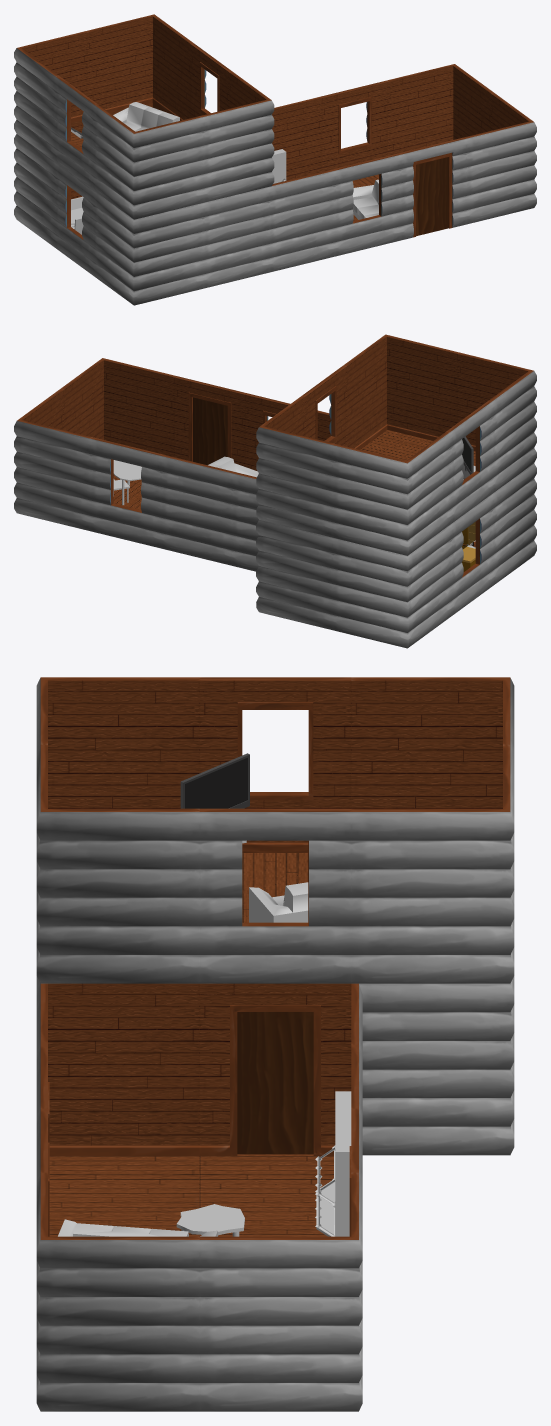
Rendered from HouseSetup03.FBX.
3 renders of one model, top to bottom at view 1: azimuth 30°, elevation 25°; view 2: azimuth 150°, elevation 25°; view 3: azimuth 270°, elevation 25°, orthographic. The views are drawn at different scales.
Visible parts, largest first — view 1: Setup_003, OverEtage_Enkelt, Object003; view 2: Setup_003, OverEtage_Enkelt, Object003; view 3: Setup_003, OverEtage_Enkelt, Object004.
Part boxes in pixels (x1,y1,x2,y2): Setup_003: [14, 64, 536, 305]; OverEtage_Enkelt: [14, 14, 274, 219]; Object003: [416, 157, 448, 236]; Setup_003: [14, 358, 536, 648]; OverEtage_Enkelt: [256, 334, 536, 555]; Object003: [193, 397, 227, 465]; Setup_003: [36, 976, 514, 1411]; OverEtage_Enkelt: [36, 677, 514, 983]; Object004: [237, 1012, 313, 1154].
Bounding box in the file's own units: 1230 × 502 × 630.
